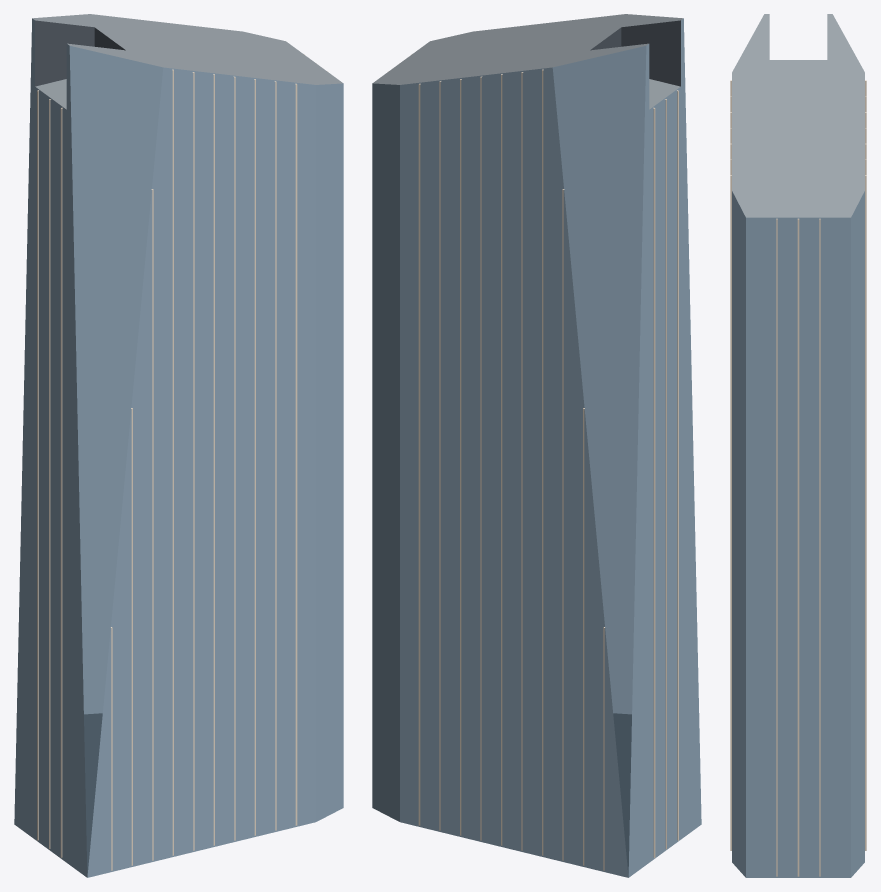
File: hou-609-main.glb
The picture shows the model from 3 angles, left to right: view 1: azimuth 30°, elevation 25°; view 2: azimuth 150°, elevation 25°; view 3: azimuth 270°, elevation 25°; orthographic projection. The views are drawn at different scales.
Parts seen in each view (by area): view 1: 609 Main at Texas; view 2: 609 Main at Texas; view 3: 609 Main at Texas.
Boxes of the visible parts, left/top/right/bottom form: 609 Main at Texas: left=14, top=14, right=343, bottom=877; 609 Main at Texas: left=372, top=14, right=701, bottom=877; 609 Main at Texas: left=730, top=14, right=866, bottom=877.
Size of the model in its own units: 78.1 by 229 by 37.9.
